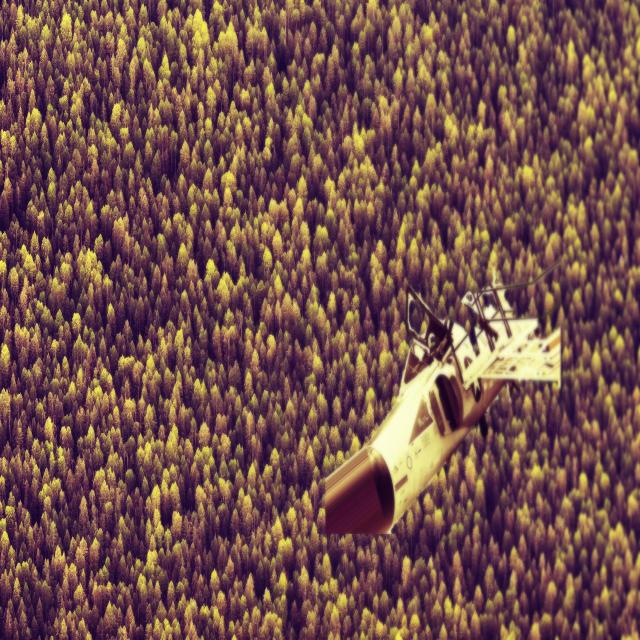airplane: (322, 255, 563, 538)
